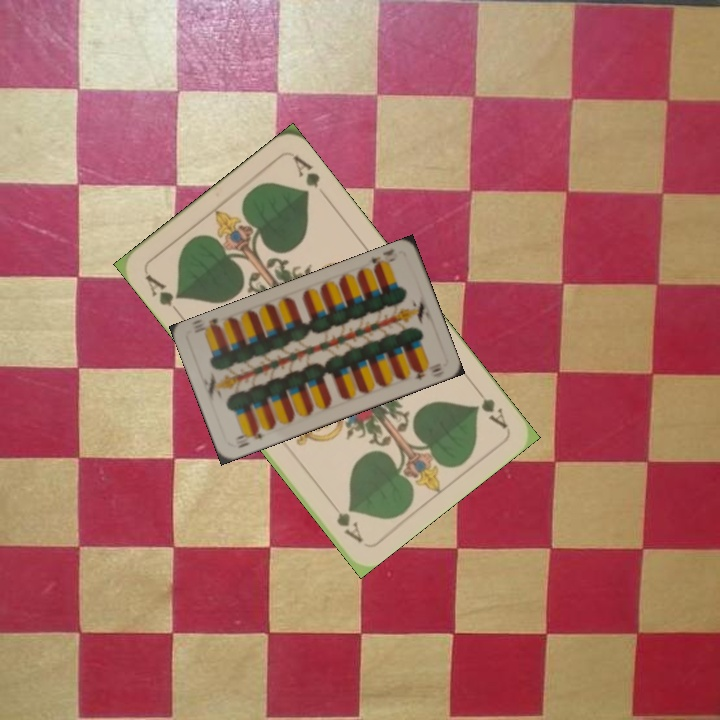E10: (230, 424, 265, 451), (367, 245, 400, 273)
GA: (140, 269, 184, 319), (469, 381, 510, 432)
